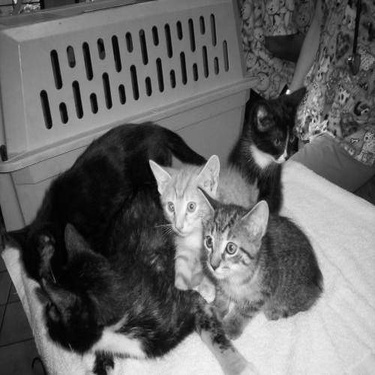cat: (33, 215, 241, 361), (7, 126, 190, 258), (197, 188, 323, 330), (221, 82, 307, 215), (152, 135, 218, 303)
